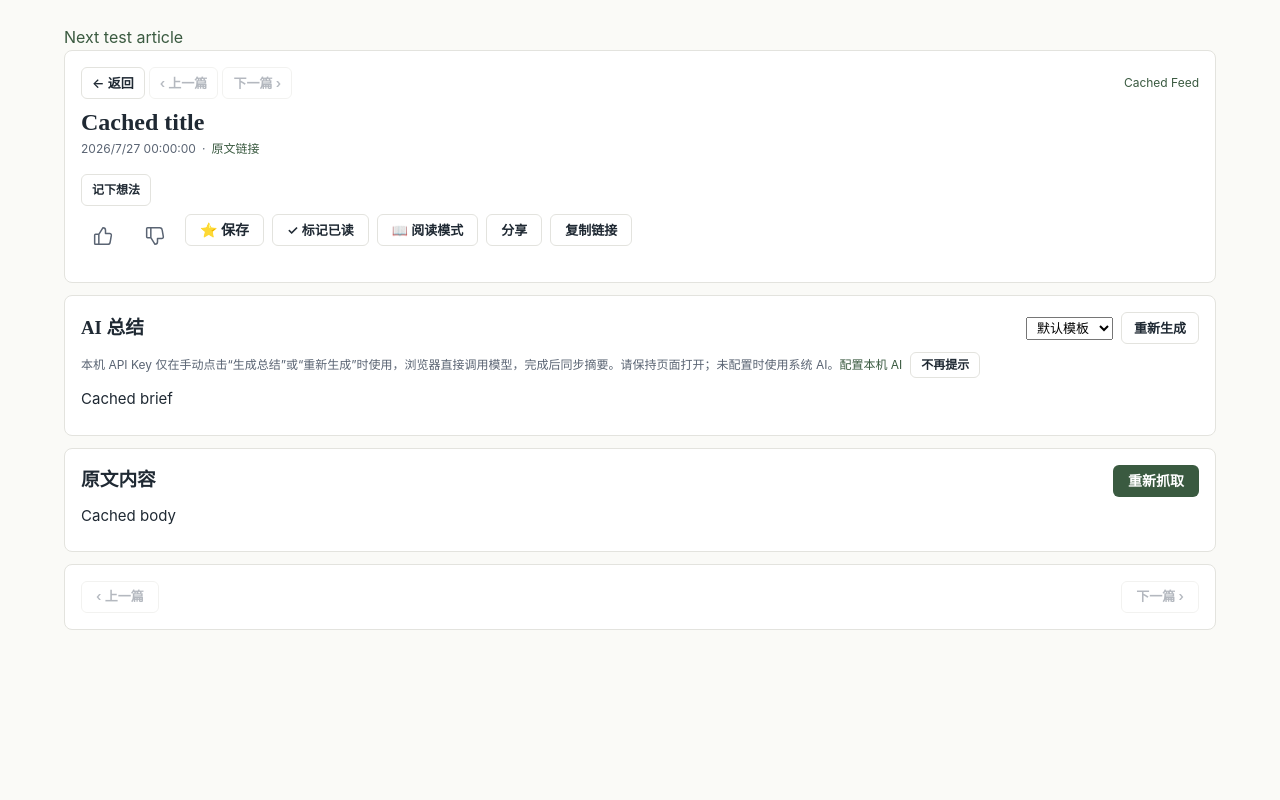
ArticlePage immediate loading › ignores summary callbacks from an article after navigating away
Step 1. Click the button "重新生成" → click(1160, 328), box x1=1121 y1=312 x2=1199 y2=344
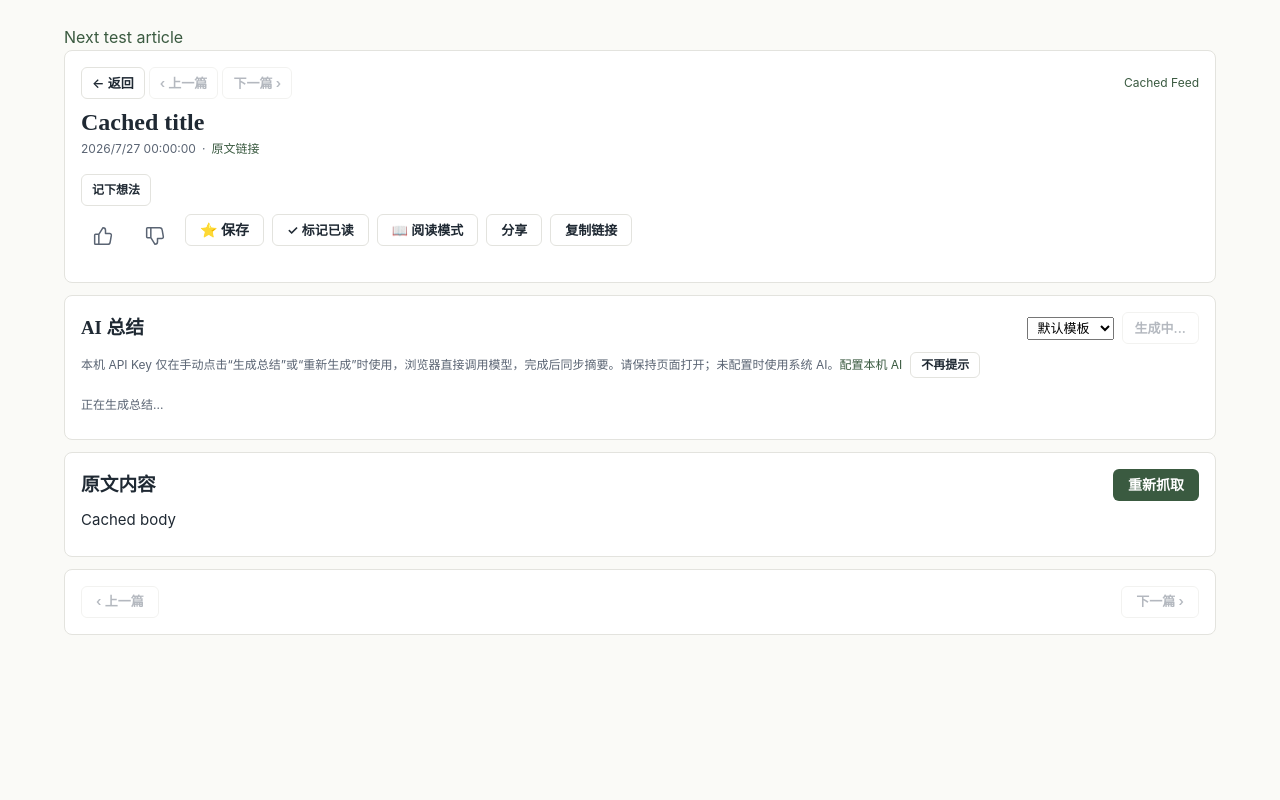
Expected: the button "生成中..." is disabled, x1=1122 y1=312 x2=1199 y2=344
Step 2. Click the link "Next test article" → click(124, 37), box x1=64 y1=27 x2=183 y2=47
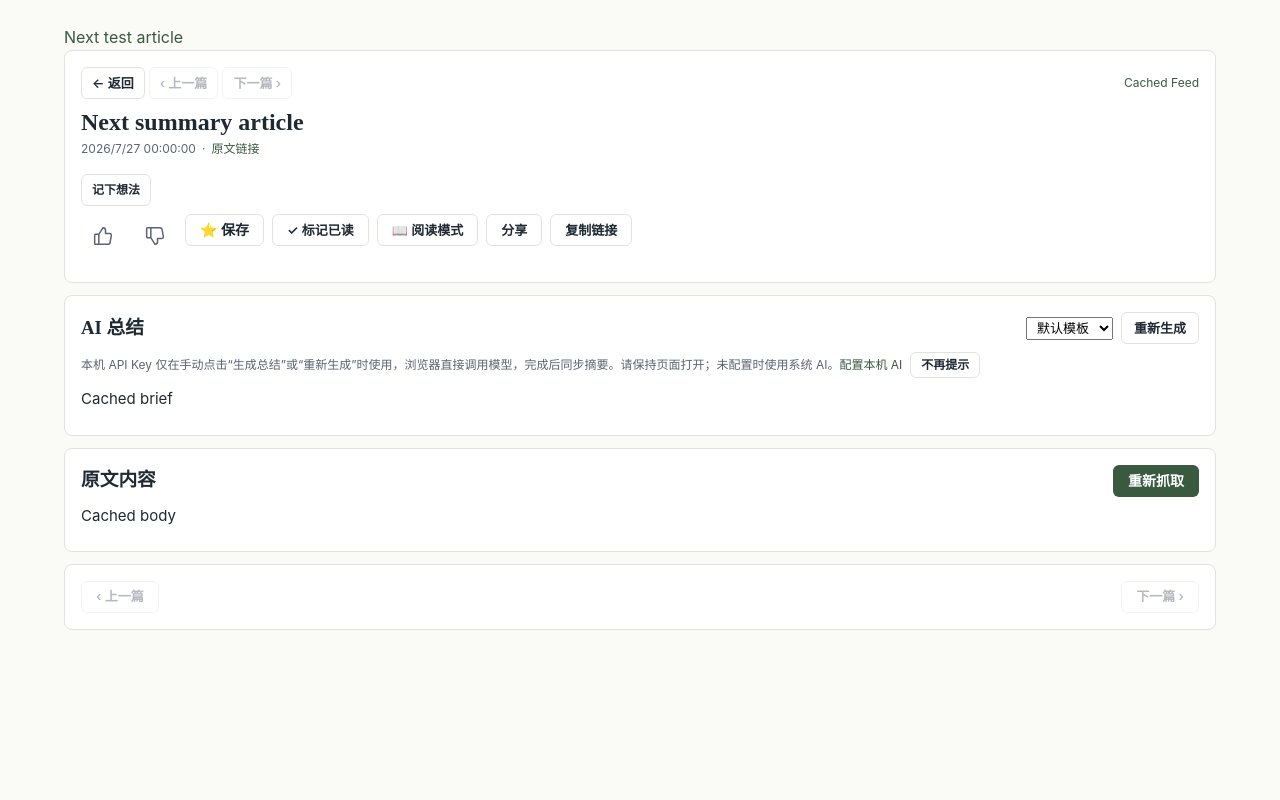
Expected: the heading "Next summary article" is shown, x1=81 y1=109 x2=304 y2=135
Expected: the button "重新生成" is enabled, x1=1121 y1=312 x2=1199 y2=344
